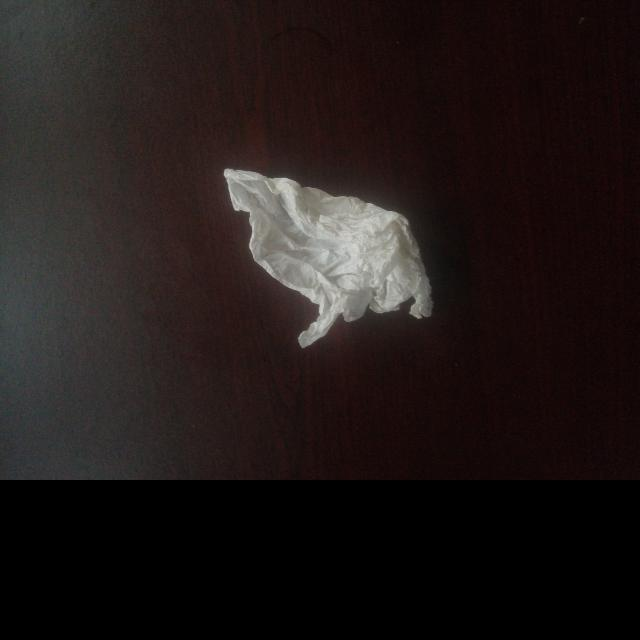kitchen paper: (218, 148, 447, 354)
